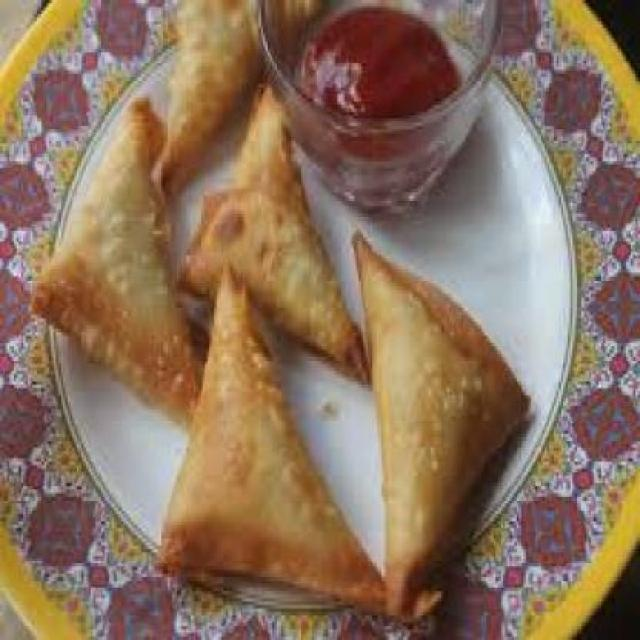samosa: (157, 259, 385, 606), (352, 229, 532, 622), (177, 82, 371, 384), (31, 97, 204, 428), (150, 0, 324, 203)
